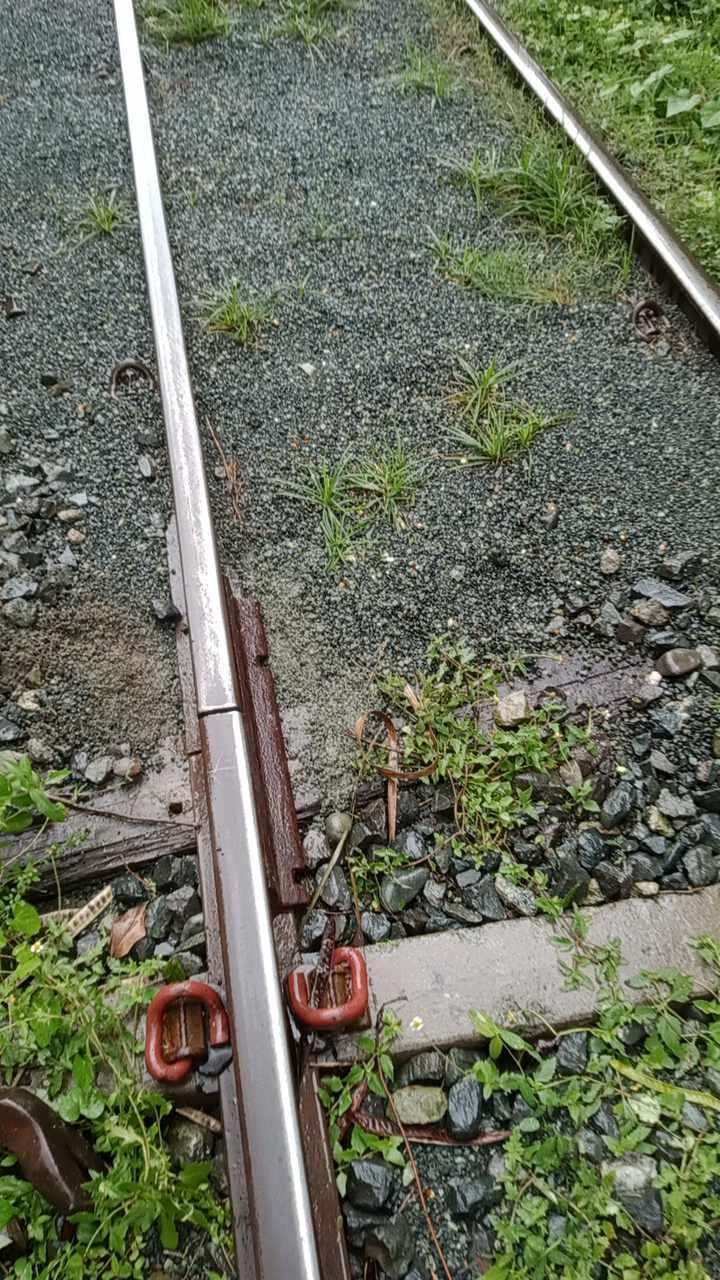railway-gap: (156, 657, 273, 759)
